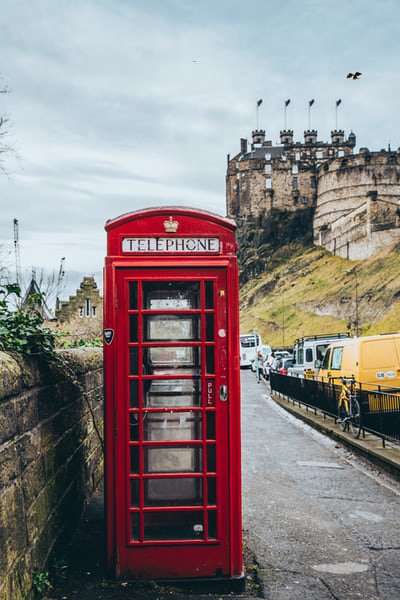copymove: (277, 95, 299, 146), (327, 96, 349, 147), (248, 95, 270, 146)
removal: (173, 24, 236, 207)
spliced: (346, 68, 366, 82)
